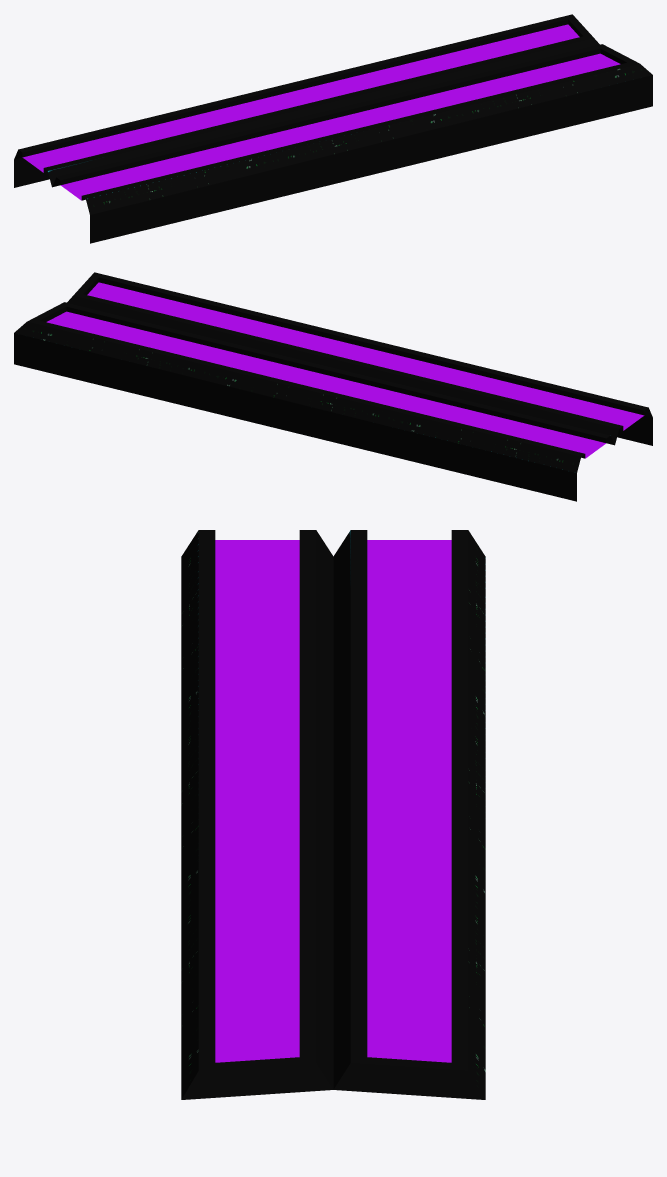
Rendered from Top_Beam_Art.fbx.
The picture shows the model from 3 angles, top to bottom: view 1: azimuth 30°, elevation 25°; view 2: azimuth 150°, elevation 25°; view 3: azimuth 270°, elevation 25°; orthographic projection. The views are drawn at different scales.
Parts seen in each view (by area): view 1: Top_Beam; view 2: Top_Beam; view 3: Top_Beam.
Part boxes in pixels (left/top/right/bottom): Top_Beam: left=14, top=14, right=652, bottom=243; Top_Beam: left=14, top=272, right=652, bottom=501; Top_Beam: left=181, top=530, right=485, bottom=1099.
Bounding box in the file's own units: 3.27 × 0.2309 × 0.7638.
